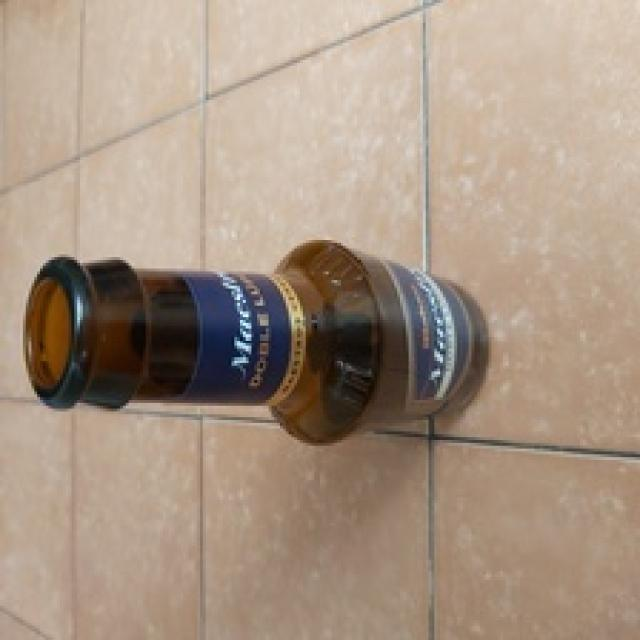Glass: (24, 239, 488, 442)
